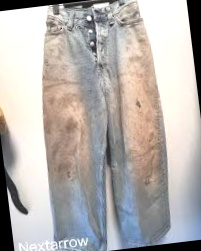earth: (122, 59, 162, 173), (41, 82, 84, 162)
